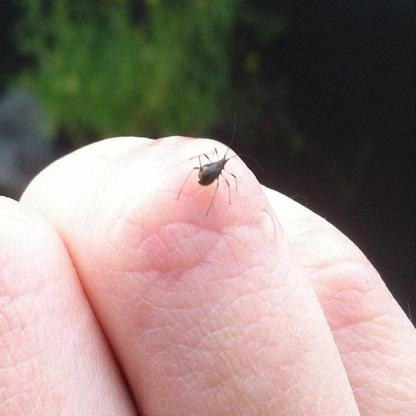aphid: (178, 107, 252, 216)
